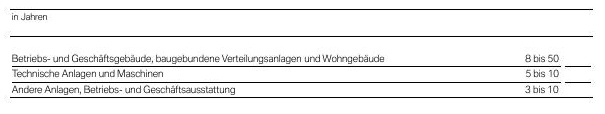table: (0, 0, 605, 114)
